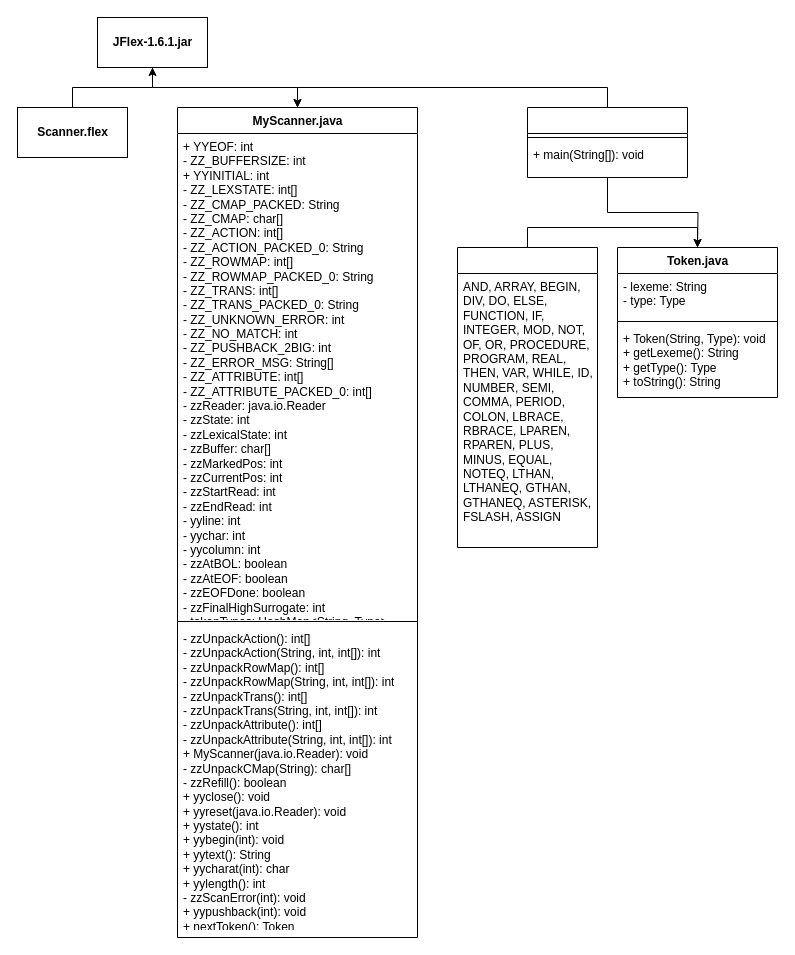
This 795x955 diagram has some shape labels left out. Each missing label, with the box of its shape:
enum Type.java: (456, 246, 598, 548)
ScannerMain.java: (526, 106, 688, 178)
